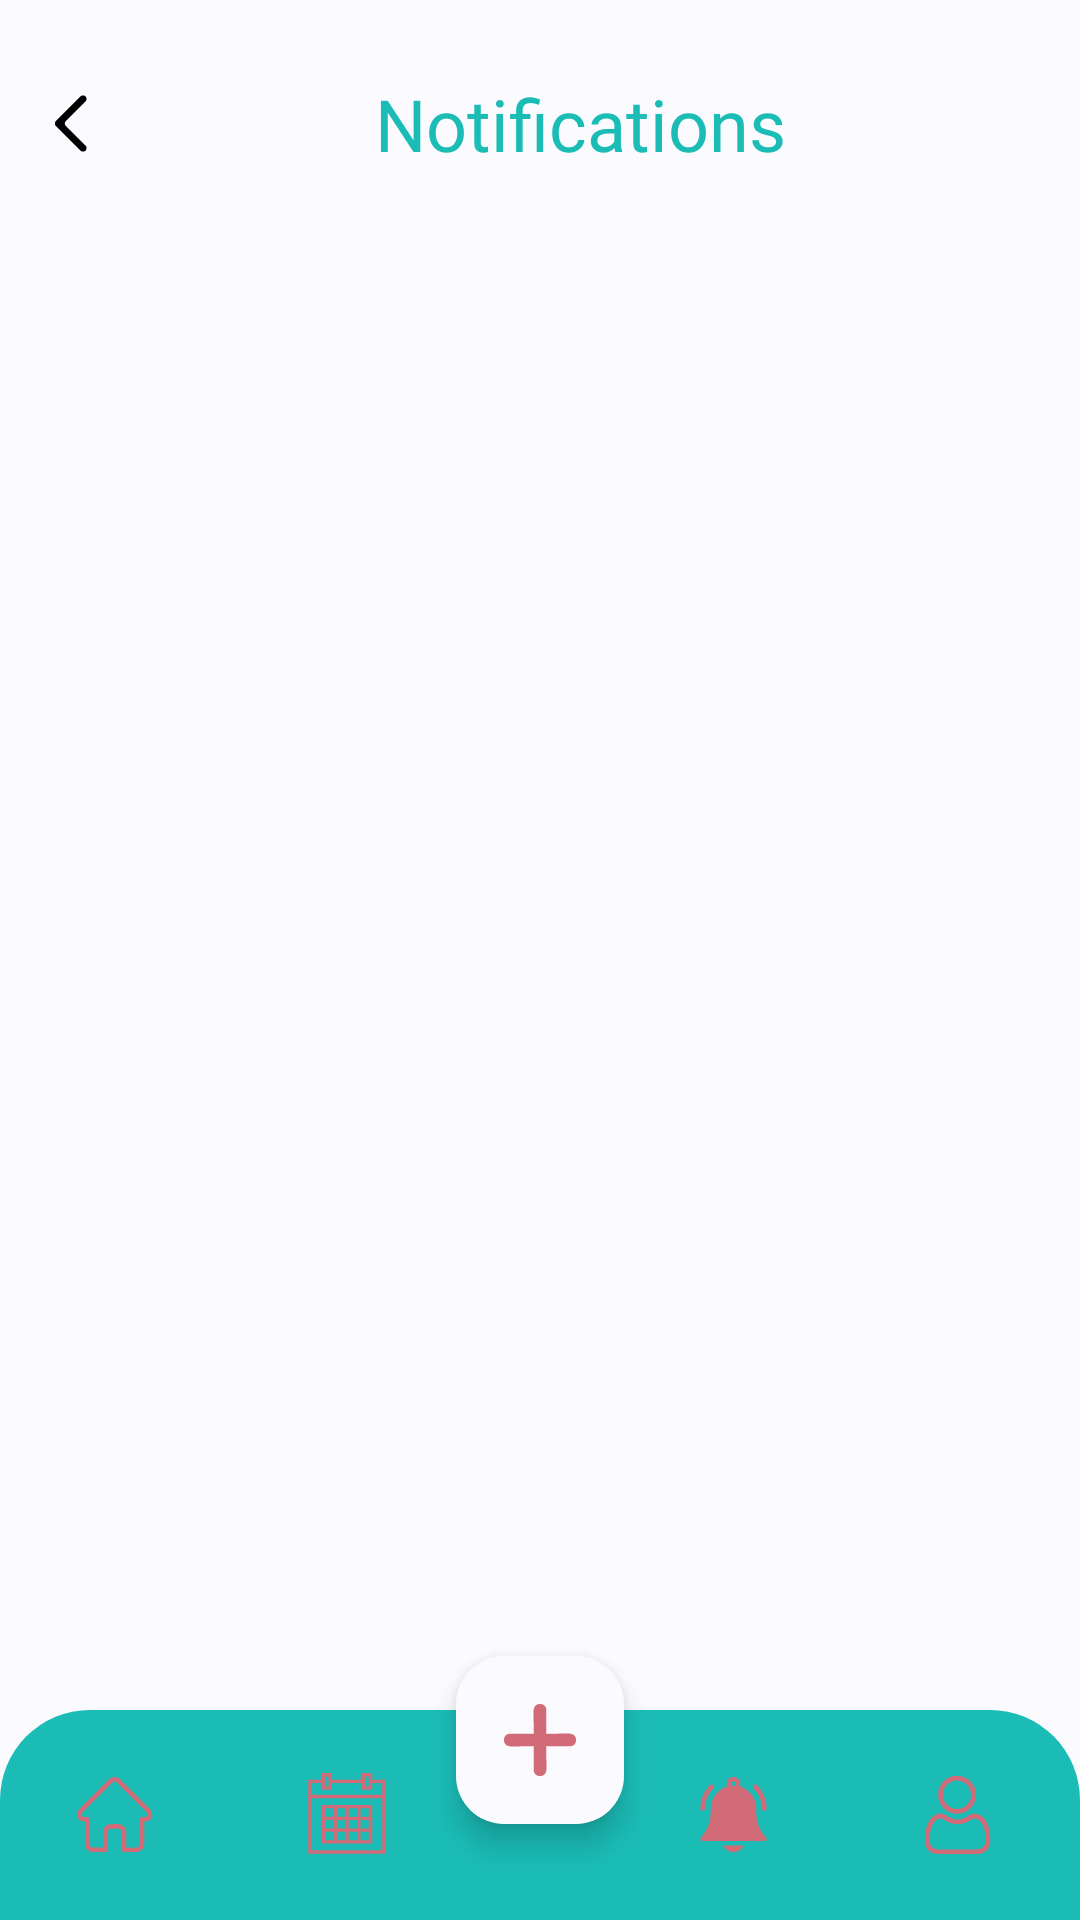

Where to tap for icons on this 1080px x 1920px app screen, as (x,y):
Add: (540,1740)
Back: (71,123)
cal: (347,1813)
home: (114,1814)
notifications: (733,1814)
user: (958,1815)
